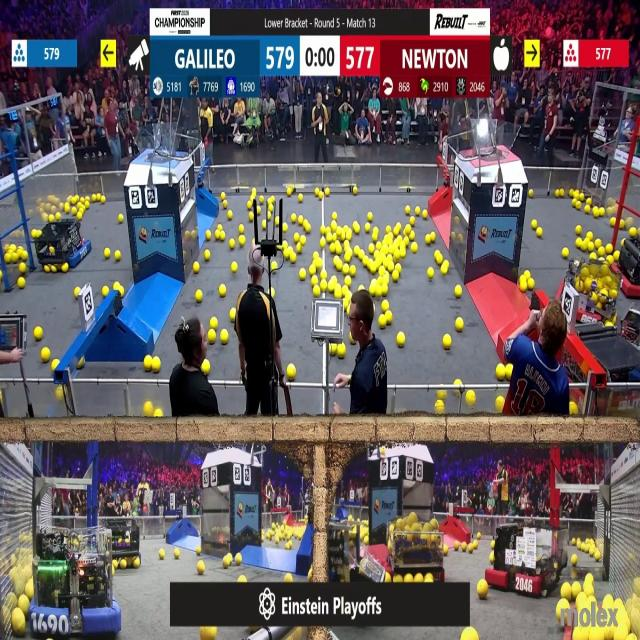ball_ground: (286, 363, 295, 379), (41, 348, 50, 363), (152, 357, 160, 372), (456, 317, 464, 331), (203, 360, 211, 374), (396, 334, 404, 348), (284, 572, 293, 583), (455, 284, 462, 298), (380, 314, 387, 328), (527, 278, 535, 290), (210, 317, 218, 329), (506, 363, 512, 379), (236, 554, 244, 566), (336, 243, 344, 254), (198, 288, 205, 300), (439, 389, 447, 399), (231, 309, 237, 322), (312, 276, 320, 285), (220, 284, 226, 296), (392, 272, 399, 282), (344, 252, 351, 262), (17, 278, 24, 288), (102, 286, 109, 296), (313, 286, 320, 296), (343, 266, 350, 276), (239, 575, 247, 583), (345, 276, 352, 285), (192, 264, 198, 274), (563, 248, 569, 258), (104, 248, 110, 258), (299, 270, 305, 280), (320, 281, 326, 291), (305, 222, 311, 232), (585, 206, 592, 214), (233, 263, 238, 274), (62, 265, 68, 274), (320, 239, 326, 248), (536, 229, 542, 238), (295, 244, 301, 253), (413, 243, 419, 252), (272, 263, 278, 272), (117, 214, 123, 223), (290, 253, 296, 262), (161, 550, 166, 560), (490, 553, 495, 563), (385, 225, 392, 232), (410, 234, 416, 242), (366, 212, 372, 220), (576, 238, 580, 250), (240, 237, 245, 246), (395, 264, 400, 273), (529, 188, 533, 197), (412, 216, 416, 225), (292, 214, 296, 223), (283, 242, 287, 250), (283, 222, 287, 230), (555, 562, 559, 570), (240, 224, 244, 232), (230, 238, 233, 246), (122, 216, 125, 223)
goal: (464, 123, 520, 159), (135, 132, 189, 159)
robot_blue: (32, 520, 120, 635), (38, 220, 92, 269), (110, 518, 141, 558)
robot_red: (553, 326, 640, 418), (485, 518, 566, 598), (557, 259, 618, 331), (385, 517, 446, 585)
